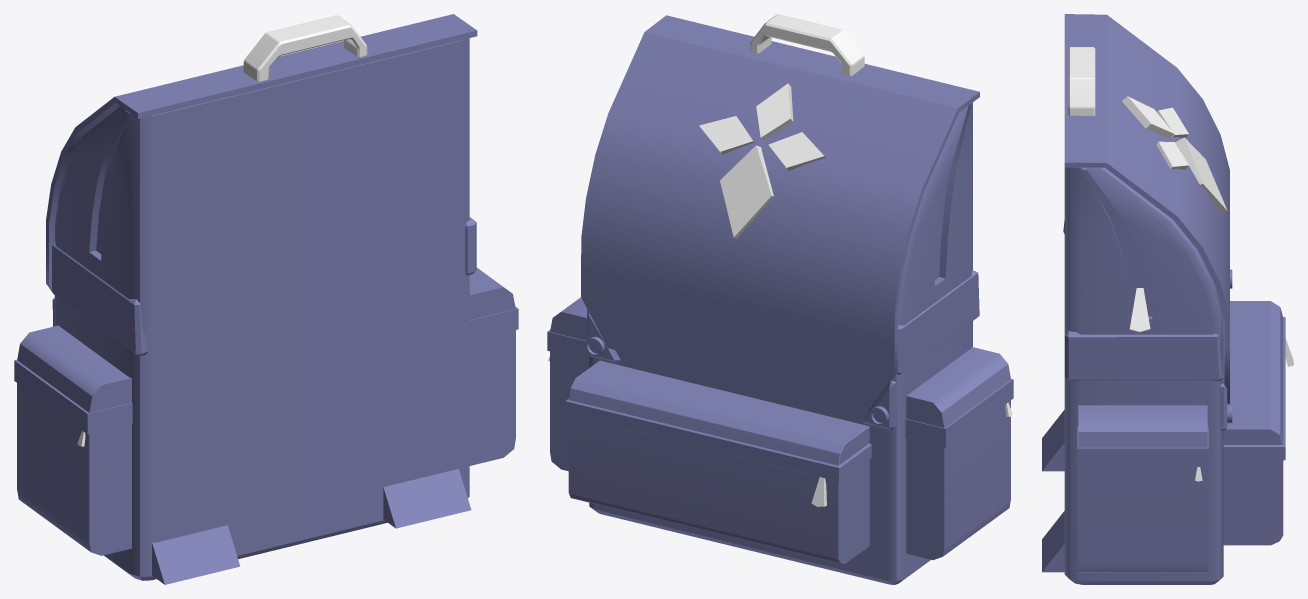
Rendered from bag_no_straps_blend.fbx.
3 renders of one model, left to right at view 1: azimuth 30°, elevation 25°; view 2: azimuth 150°, elevation 25°; view 3: azimuth 270°, elevation 25°, orthographic. The views are drawn at different scales.
Visible parts, largest first — view 1: polySurface4483; view 2: polySurface4483; view 3: polySurface4483.
Part boxes in pixels (x1,y1,x2,y2): polySurface4483: (14,14,518,584); polySurface4483: (547,14,1013,584); polySurface4483: (1042,14,1293,584).
Size of the model in its own units: 42.45 by 47.21 by 23.64.
